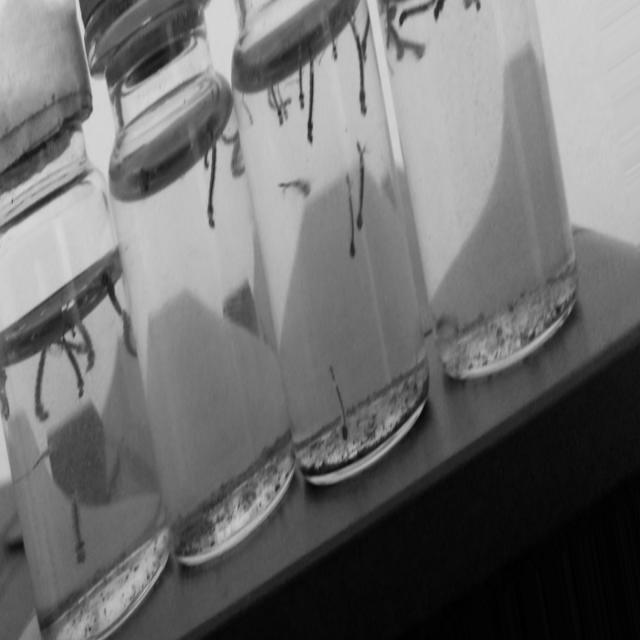larvas: (324, 362, 357, 447), (345, 18, 372, 117), (67, 295, 98, 371), (31, 342, 59, 422), (12, 442, 58, 490), (59, 329, 89, 400), (68, 492, 93, 568), (304, 49, 318, 144), (207, 132, 219, 230), (356, 141, 368, 229), (348, 175, 359, 257), (435, 308, 460, 339), (0, 367, 14, 421), (279, 177, 314, 198), (120, 309, 136, 354), (226, 130, 242, 174), (400, 0, 432, 22), (102, 275, 121, 312), (360, 11, 374, 59), (318, 36, 342, 60), (276, 83, 290, 122), (386, 8, 398, 51), (271, 89, 284, 126), (391, 33, 406, 63), (242, 91, 255, 123), (70, 337, 86, 362), (296, 51, 303, 107), (460, 0, 483, 14), (406, 42, 426, 55), (282, 88, 293, 111), (432, 1, 444, 22), (204, 143, 211, 171)
